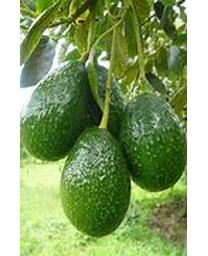avocado: (59, 126, 134, 237), (20, 58, 93, 163), (115, 93, 187, 193)
